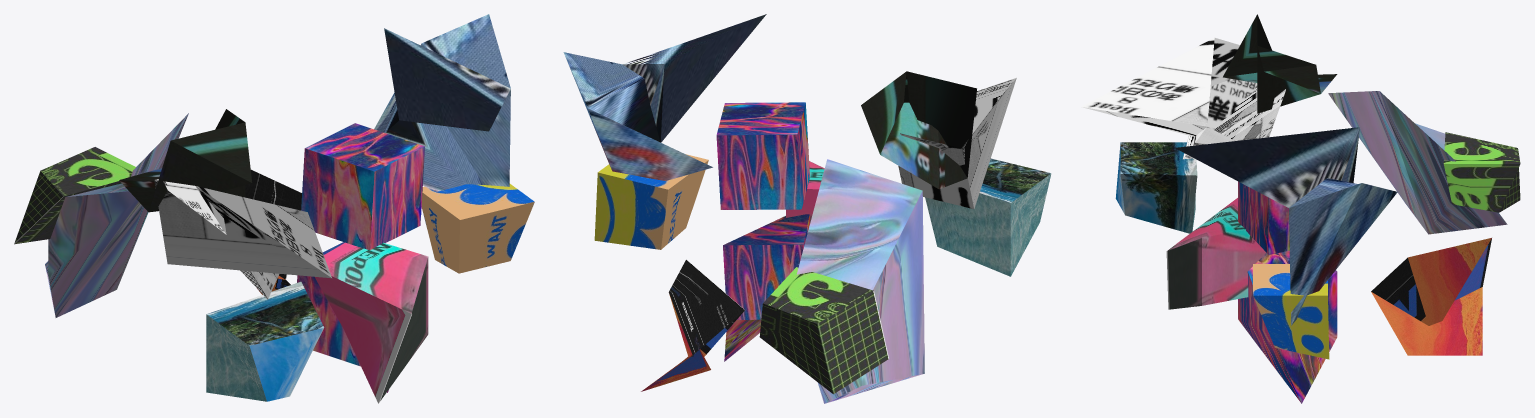
File: triangulo.gltf
3 views of the same model, side by side, from view 1: azimuth 30°, elevation 25°; view 2: azimuth 150°, elevation 25°; view 3: azimuth 270°, elevation 25° (orthographic). The views are drawn at different scales.
Parts seen in each view (by area): view 1: Cube.009, Cube.005, Cube.002, Cube.008, Cube.001, Cube.004, Cube.006, Cube.003, Cube.007, Cube; view 2: Cube.004, Cube.005, Cube.009, Cube.007, Cube.003, Cube.001, Cube.006, Cube, Cube.002, Cube.008; view 3: Cube.009, Cube.002, Cube, Cube.004, Cube.008, Cube.005, Cube.001, Cube.007, Cube.006, Cube.003.
Part boxes in pixels (x1,y1,x2,y2): Cube.009: (374, 14, 510, 191); Cube.005: (297, 123, 424, 392); Cube.002: (154, 179, 331, 299); Cube.008: (314, 242, 428, 403); Cube.001: (206, 281, 324, 401); Cube.004: (45, 113, 188, 317); Cube.006: (421, 183, 534, 273); Cube.003: (119, 109, 252, 212); Cube.007: (14, 147, 135, 244); Cube: (245, 169, 301, 294); Cube.004: (796, 159, 924, 403); Cube.005: (716, 102, 810, 361); Cube.009: (563, 14, 766, 180); Cube.007: (759, 267, 889, 394); Cube.003: (861, 71, 976, 189); Cube.001: (925, 158, 1051, 276); Cube.006: (594, 154, 708, 249); Cube: (641, 259, 744, 391); Cube.002: (898, 78, 1016, 208); Cube.008: (786, 161, 824, 221); Cube.009: (1175, 127, 1397, 325); Cube.002: (1081, 37, 1285, 159); Cube: (1371, 238, 1491, 355); Cube.004: (1328, 91, 1507, 234); Cube.008: (1166, 198, 1266, 309); Cube.005: (1238, 181, 1337, 403); Cube.001: (1115, 142, 1197, 233); Cube.007: (1443, 132, 1520, 212); Cube.006: (1253, 264, 1329, 359); Cube.003: (1223, 14, 1337, 113).
Size of the model in its own units: 10.97 by 8.52 by 11.73.
10 materials, 10 textured.
